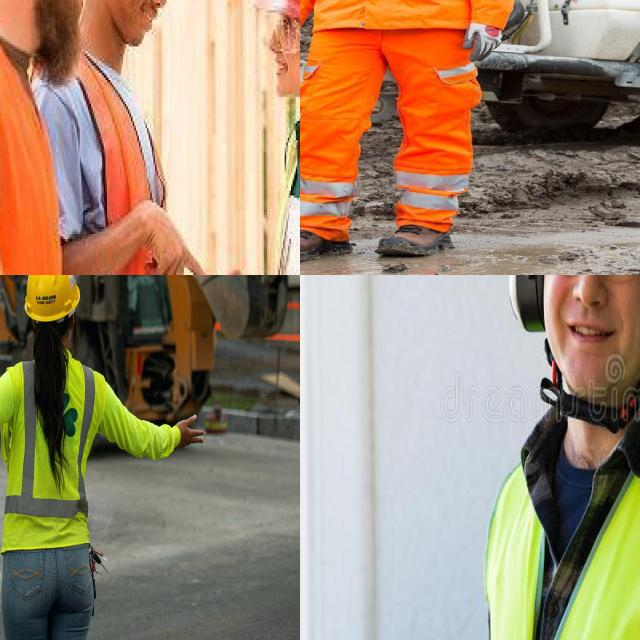face_nomask: (535, 275, 640, 383), (30, 0, 99, 82), (263, 7, 300, 116), (108, 0, 179, 51)
glasses: (255, 0, 300, 55)
hand_glove: (461, 16, 519, 66), (300, 8, 320, 67)
hand_noglove: (139, 186, 195, 275), (168, 398, 211, 457)
head_helmet: (19, 275, 86, 323)
person: (477, 275, 640, 640), (300, 0, 522, 257), (55, 0, 198, 275), (0, 275, 99, 640), (0, 0, 92, 275), (236, 0, 300, 275)
shoes: (373, 219, 459, 255), (300, 224, 350, 257)
vest: (480, 404, 640, 640), (72, 46, 179, 275), (3, 359, 99, 585), (0, 0, 67, 275)
